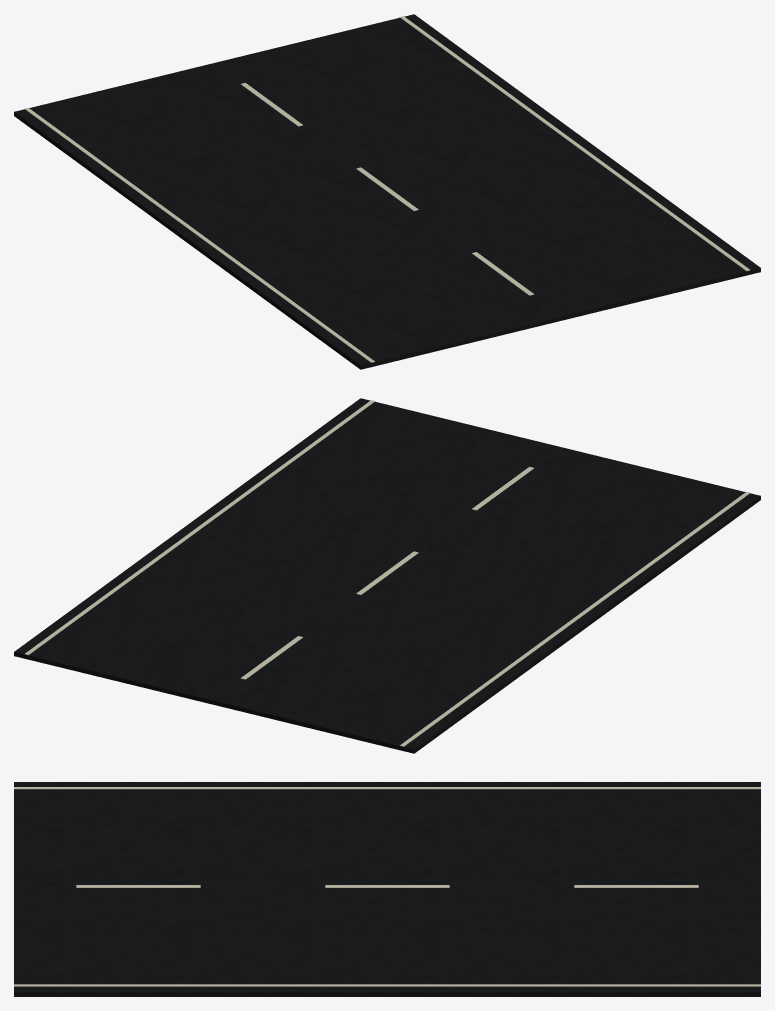
Rendered from road-straight-12m.glb.
The picture shows the model from 3 angles, top to bottom: view 1: azimuth 30°, elevation 25°; view 2: azimuth 150°, elevation 25°; view 3: azimuth 270°, elevation 25°; orthographic projection. The views are drawn at different scales.
Parts seen in each view (by area): view 1: Asphalt, Edge marking, Edge marking.001; view 2: Asphalt, Edge marking, Edge marking.001; view 3: Asphalt, Edge marking, Edge marking.001.
Boxes of the visible parts, bbox=[...] form: Asphalt: bbox=[14, 14, 760, 369]; Edge marking: bbox=[25, 107, 375, 362]; Edge marking.001: bbox=[399, 16, 749, 271]; Asphalt: bbox=[14, 398, 760, 753]; Edge marking: bbox=[399, 491, 749, 746]; Edge marking.001: bbox=[25, 400, 375, 655]; Asphalt: bbox=[14, 782, 760, 996]; Edge marking: bbox=[14, 787, 760, 789]; Edge marking.001: bbox=[14, 984, 760, 986].
Bounding box in the file's own units: 8 × 0.096 × 12.
2 materials, 1 textured.
